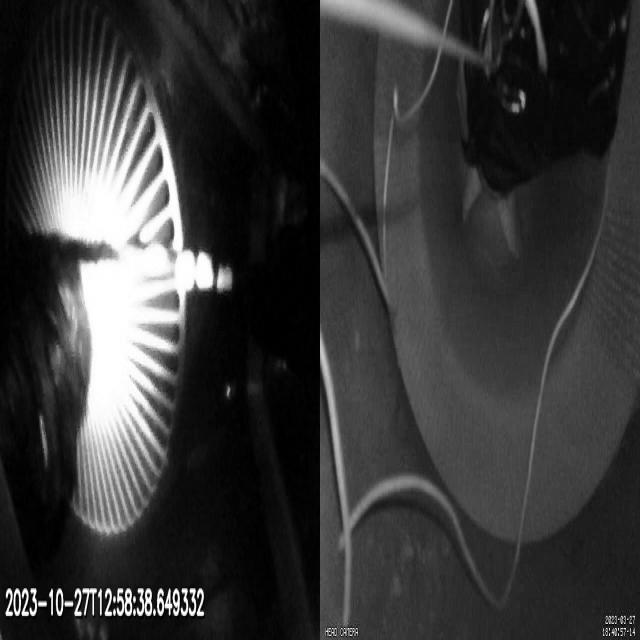white-dots: (175, 247, 233, 296)
